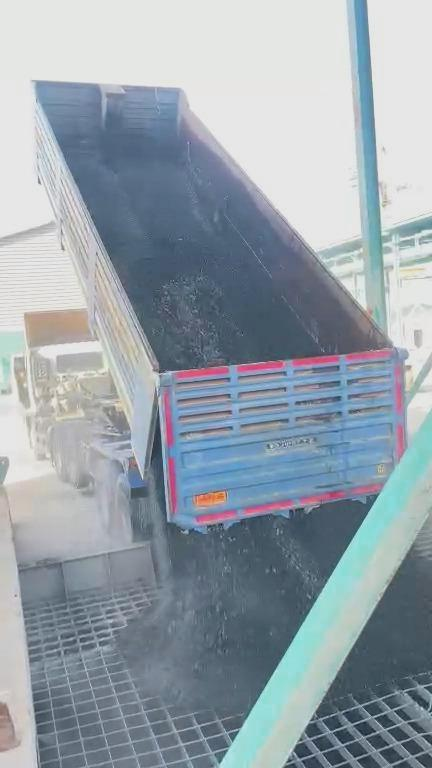gravel: (67, 138, 319, 371), (125, 502, 370, 711), (334, 564, 431, 696)
